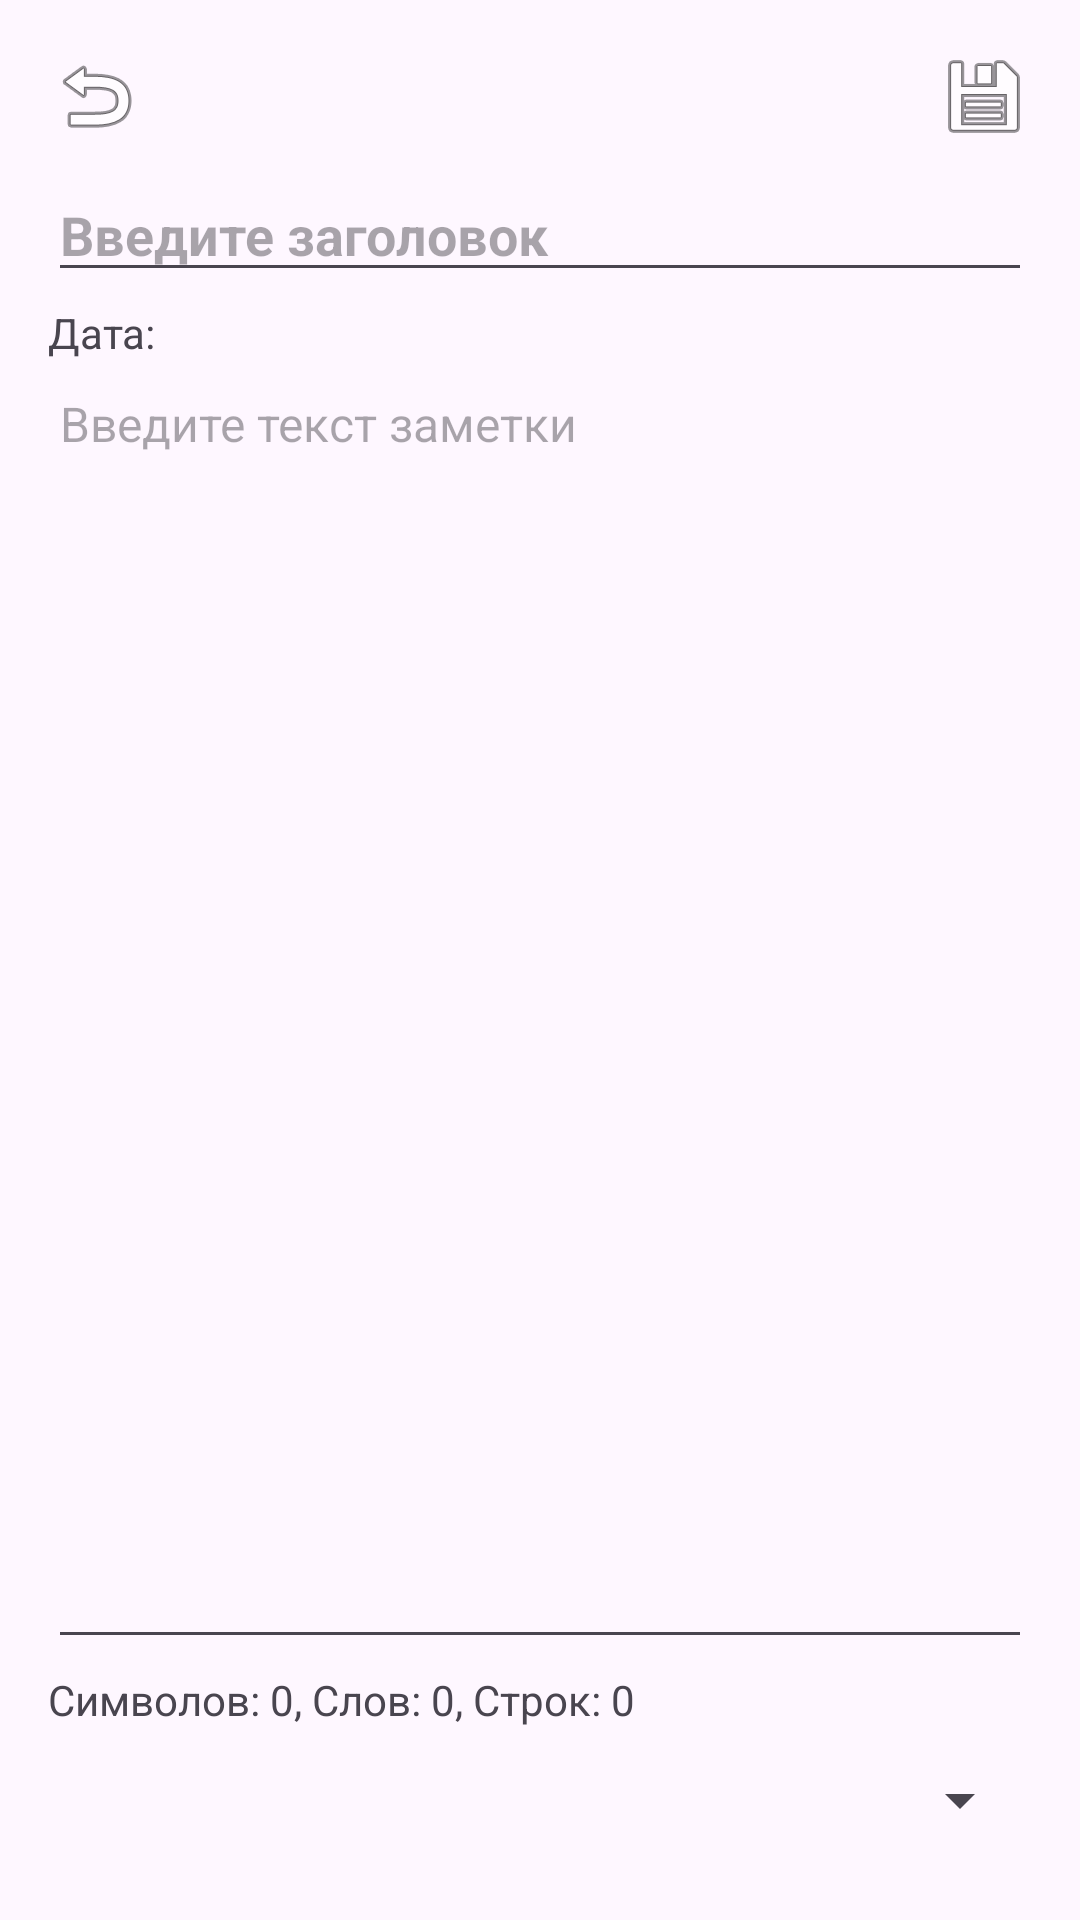

Icons on this 1080px×1920px Android screen, each with the point to tap as point (x, y):
Назад: point (97, 96)
Сохранить: point (984, 96)
